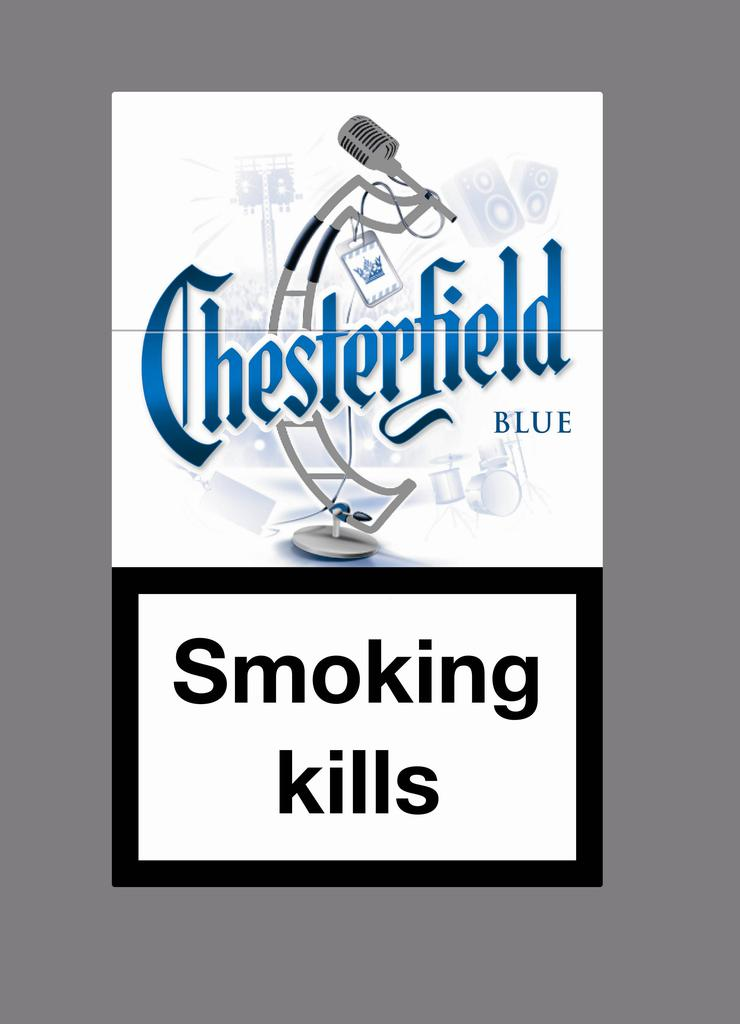chesterfield_blue: (111, 93, 608, 885)
